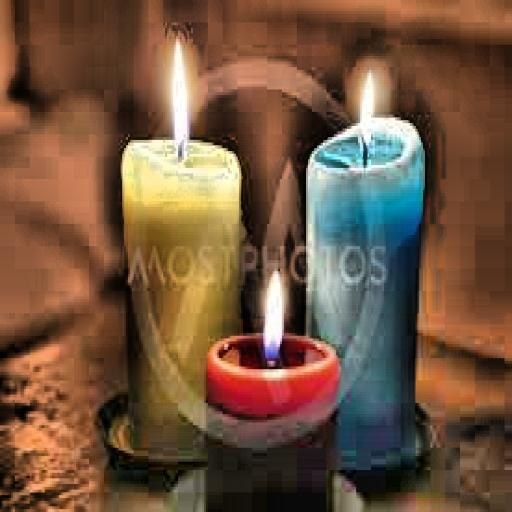fire: (254, 263, 291, 358), (169, 34, 189, 151), (356, 64, 379, 143)
